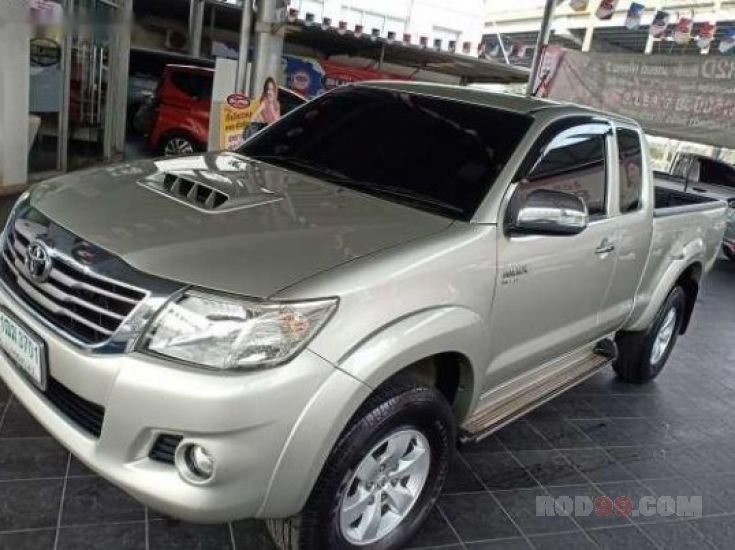pickup: (1, 76, 726, 537)
